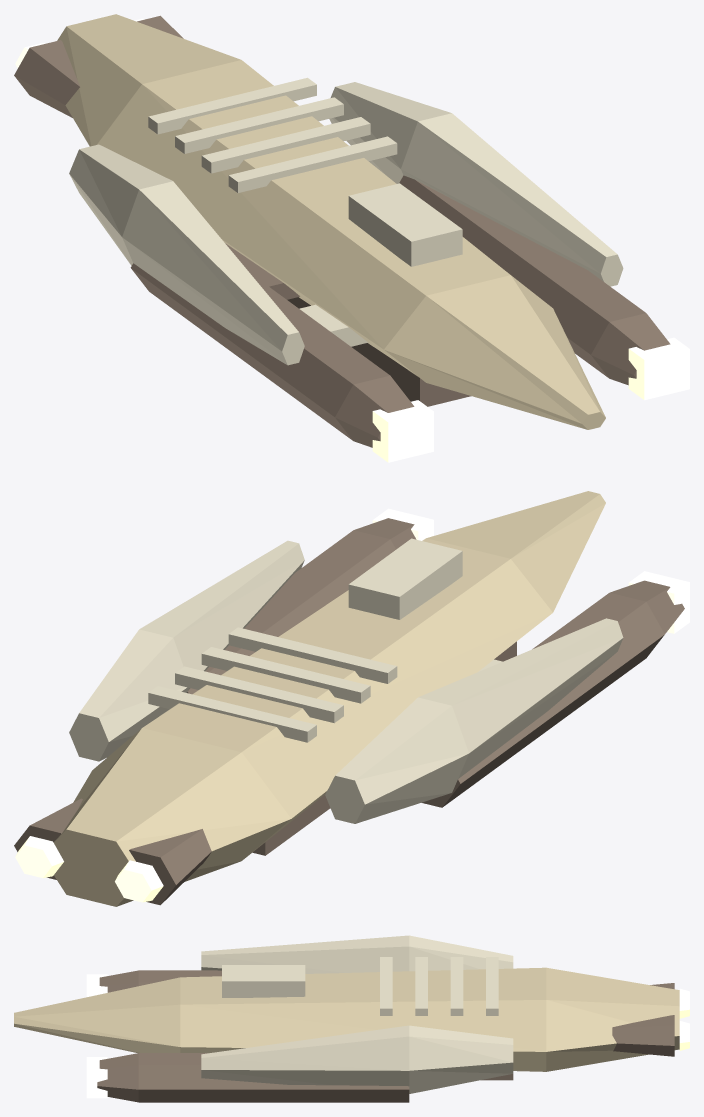
The picture shows the model from 3 angles, top to bottom: view 1: azimuth 30°, elevation 25°; view 2: azimuth 150°, elevation 25°; view 3: azimuth 270°, elevation 25°; orthographic projection. The views are drawn at different scales.
Bounding box in the file's own units: 2.83 × 1.08 × 7.22.
